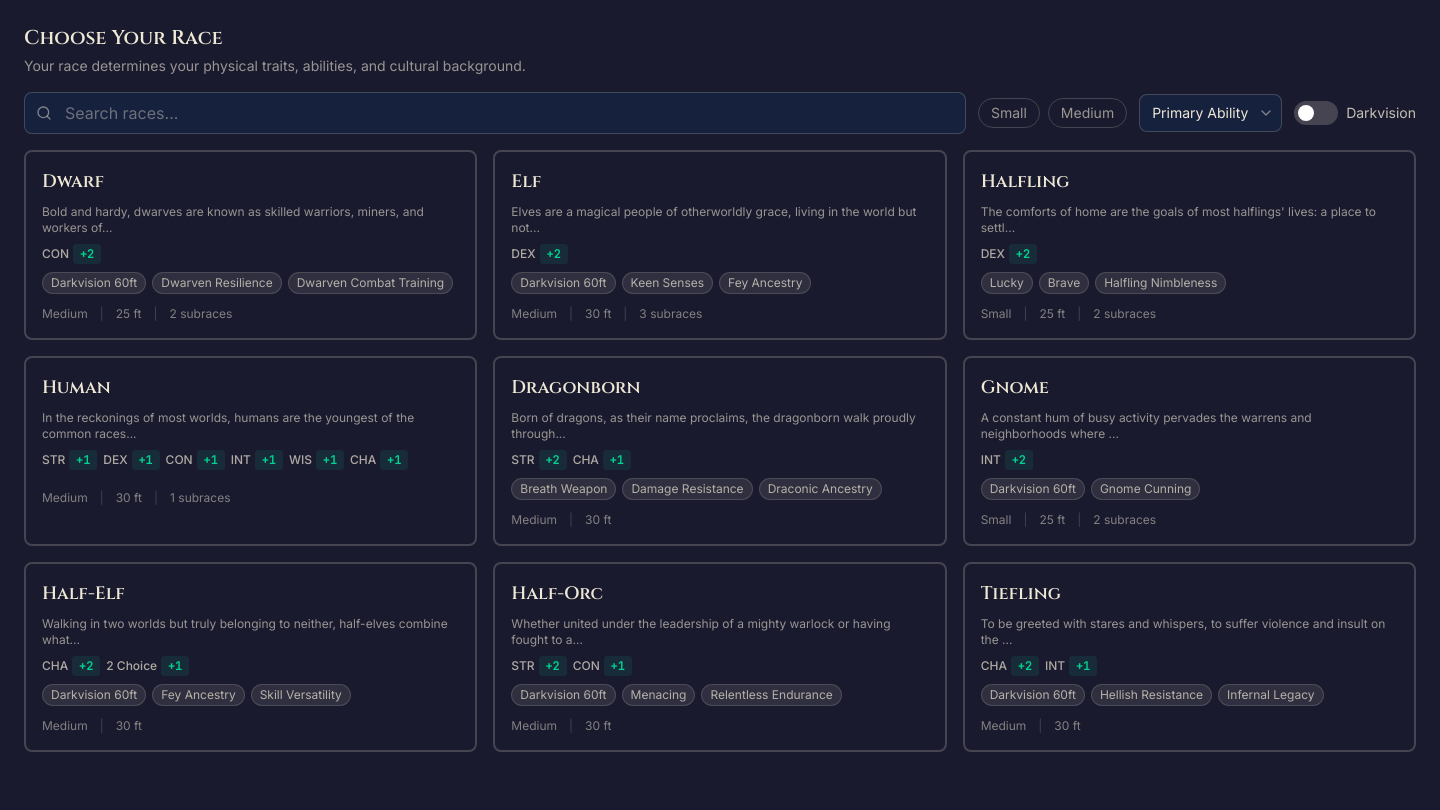
Test: RaceStep › should filter by darkvision toggle
# Find the darkvision toggle
Click the switch named "Darkvision". click: point(1316, 113)
box: [1294,101,1338,125]
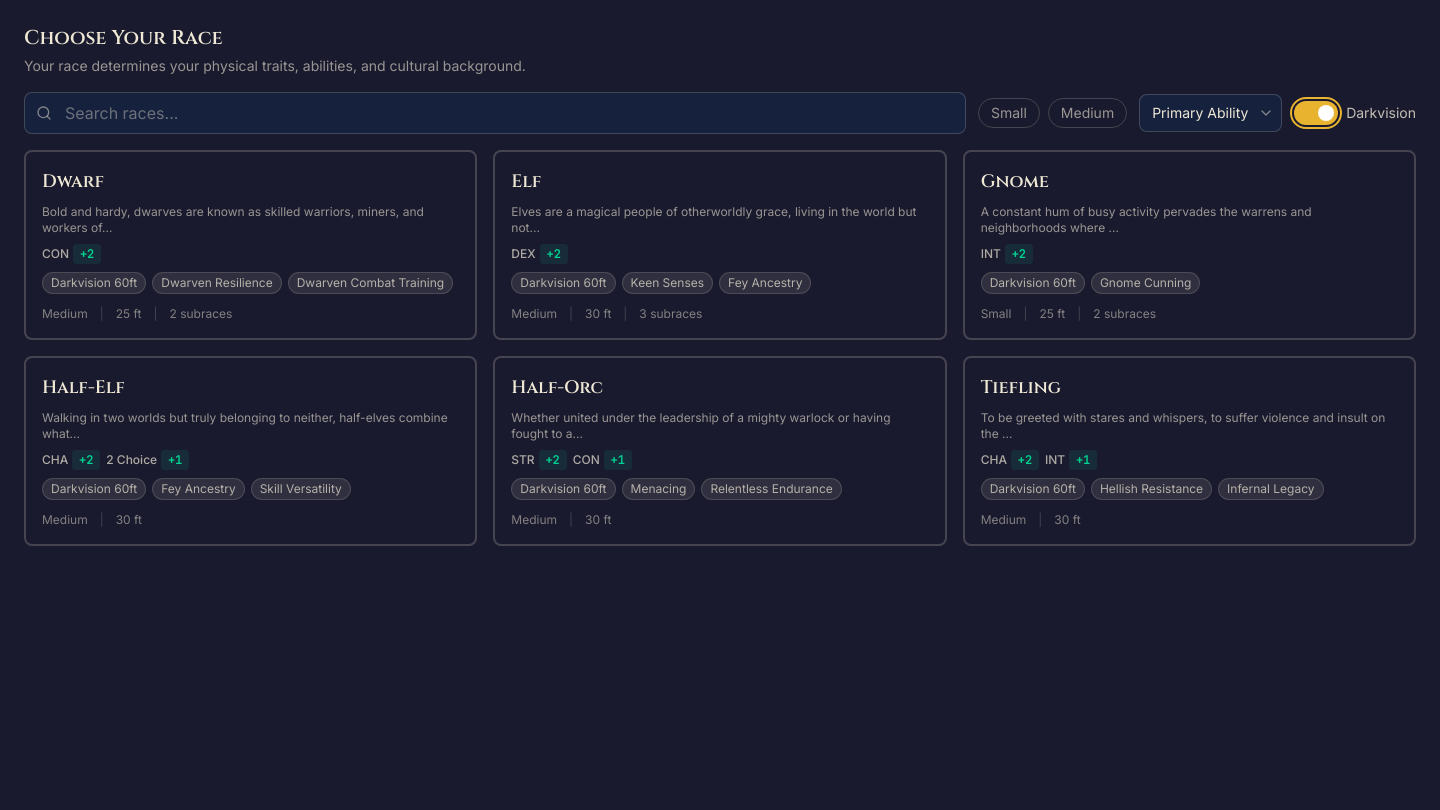
Expected: the heading "Dwarf" is shown, [42,169,104,194]
Now the option "Halfling" is gone
